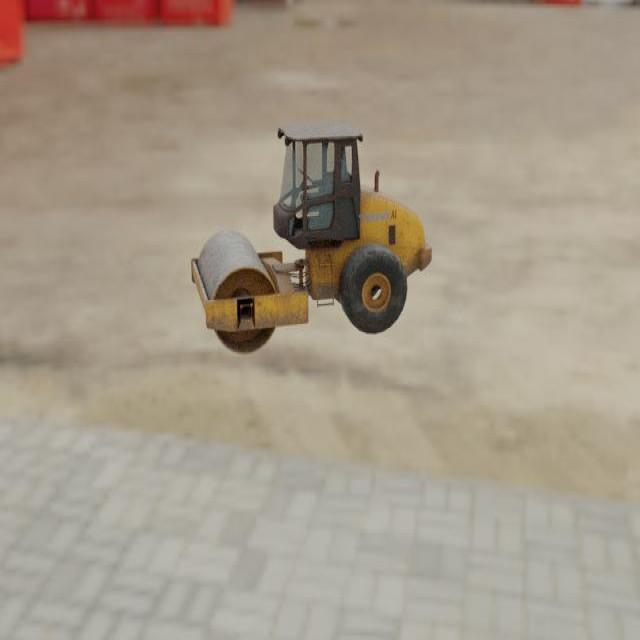Roller: (190, 121, 432, 355)
